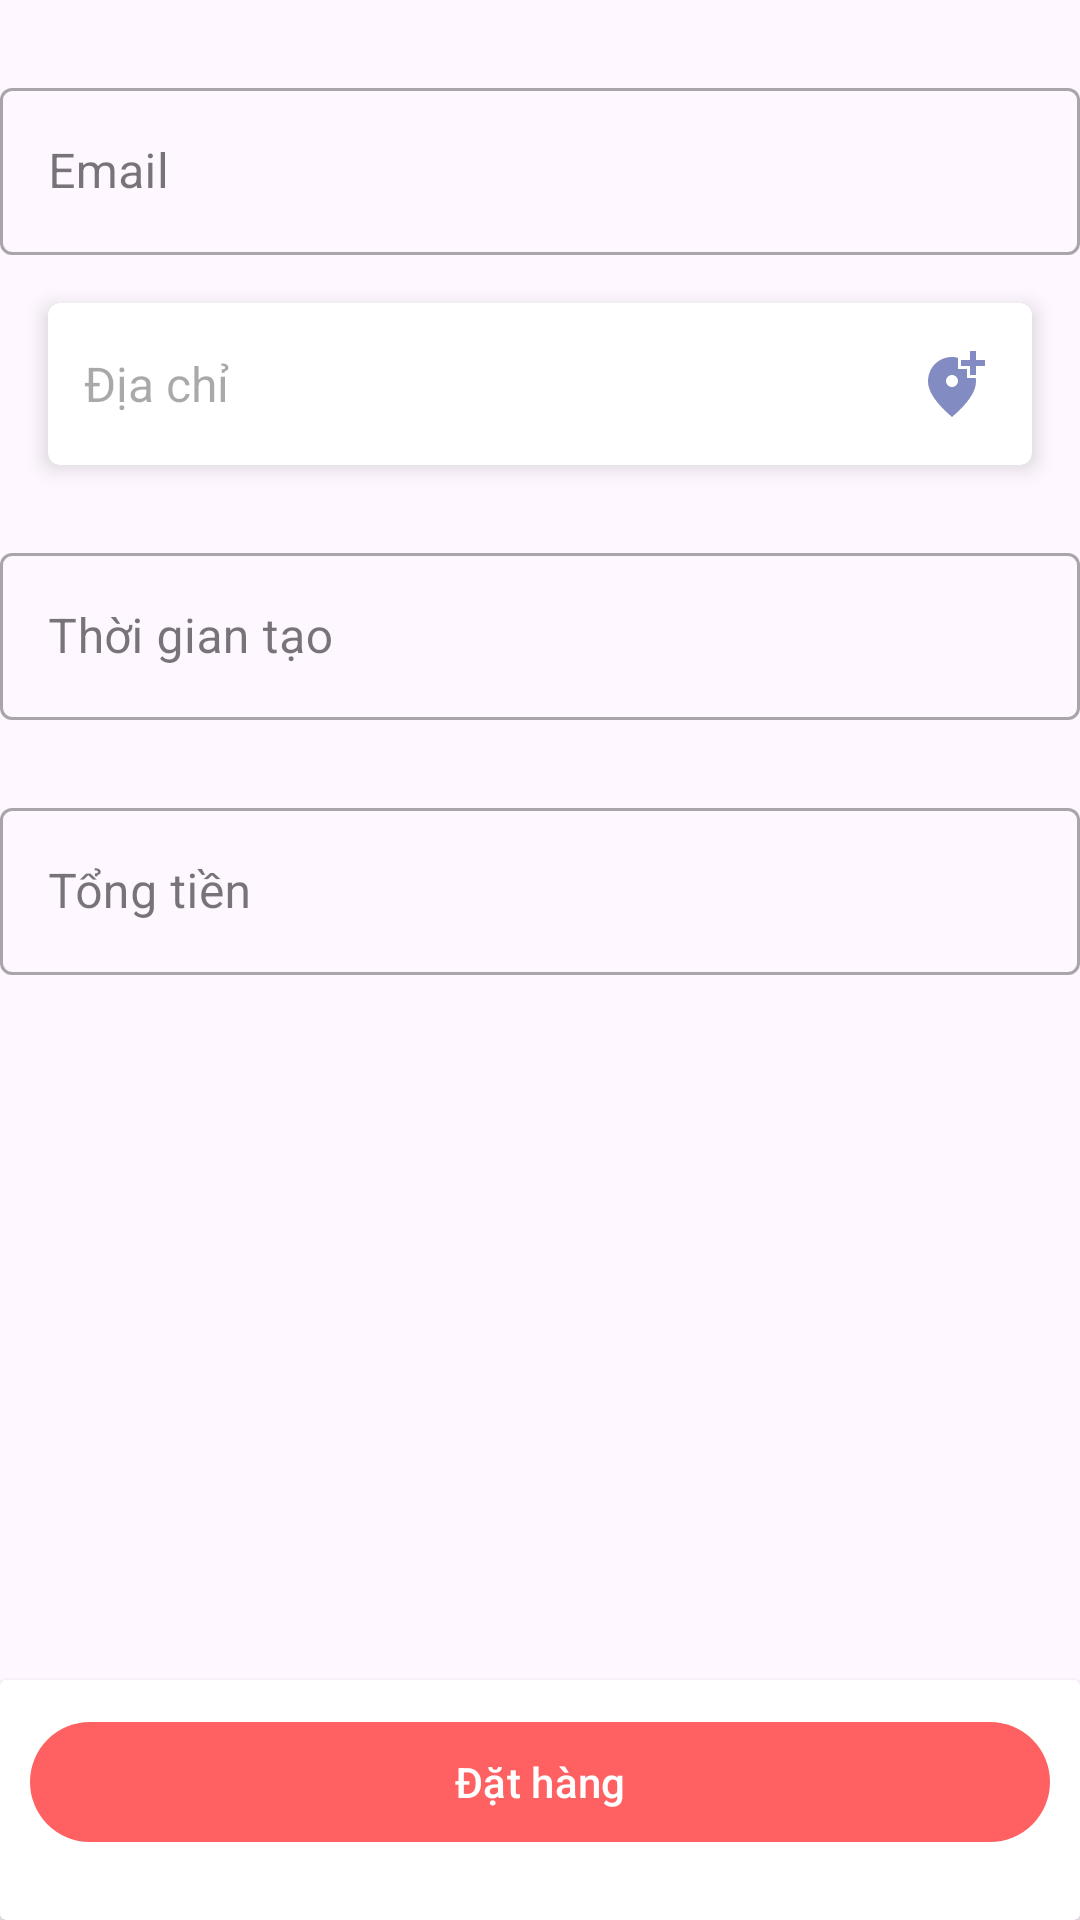

Where icons sit on this 1080px×1920px app screen, as (x1, y1, x2, y2):
add location: (928, 351, 985, 417)
